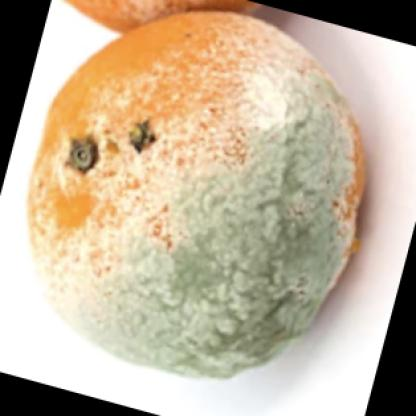rotten: (32, 8, 366, 376)
